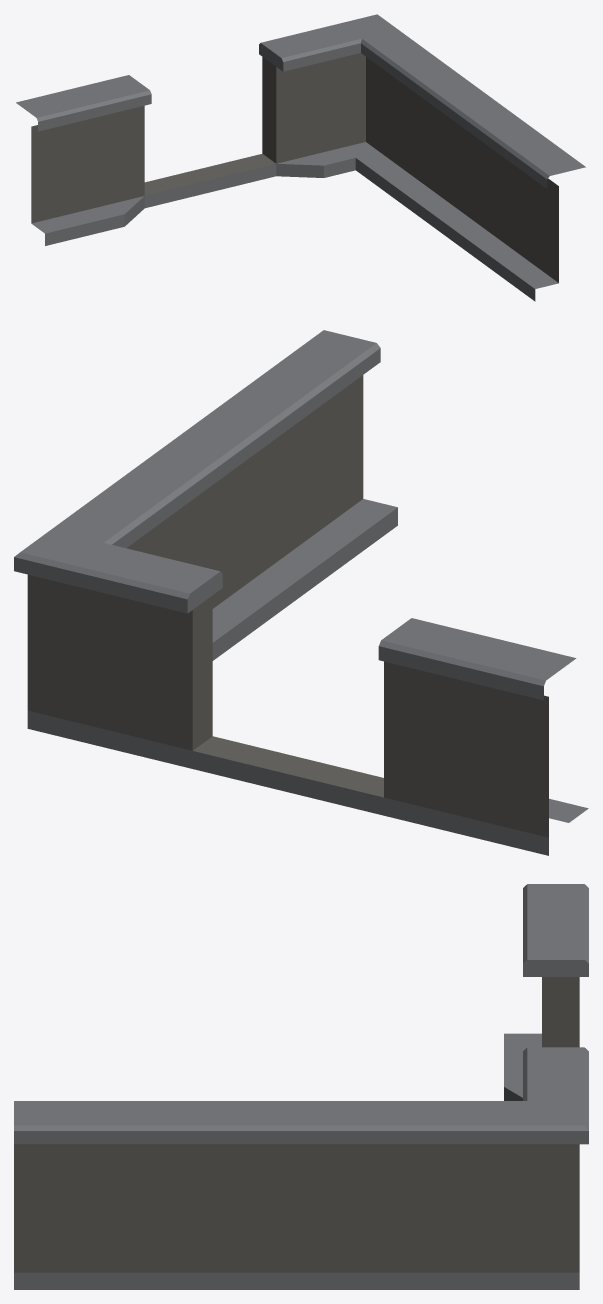
Rendered from SM_Roof_Corner_In_Ladder_L.gltf.
3 views of the same model, one above another, from view 1: azimuth 30°, elevation 25°; view 2: azimuth 150°, elevation 25°; view 3: azimuth 270°, elevation 25° (orthographic). The views are drawn at different scales.
Visible parts, largest first — view 1: SM_Roof_Corner_In_Ladder_L; view 2: SM_Roof_Corner_In_Ladder_L; view 3: SM_Roof_Corner_In_Ladder_L.
Part boxes in pixels (x1,y1,x2,y2): SM_Roof_Corner_In_Ladder_L: (16,14,585,301); SM_Roof_Corner_In_Ladder_L: (14,330,588,855); SM_Roof_Corner_In_Ladder_L: (14,884,588,1289).
Size of the model in its own units: 3.05 by 0.9755 by 3.05.
1 material, 1 textured.
